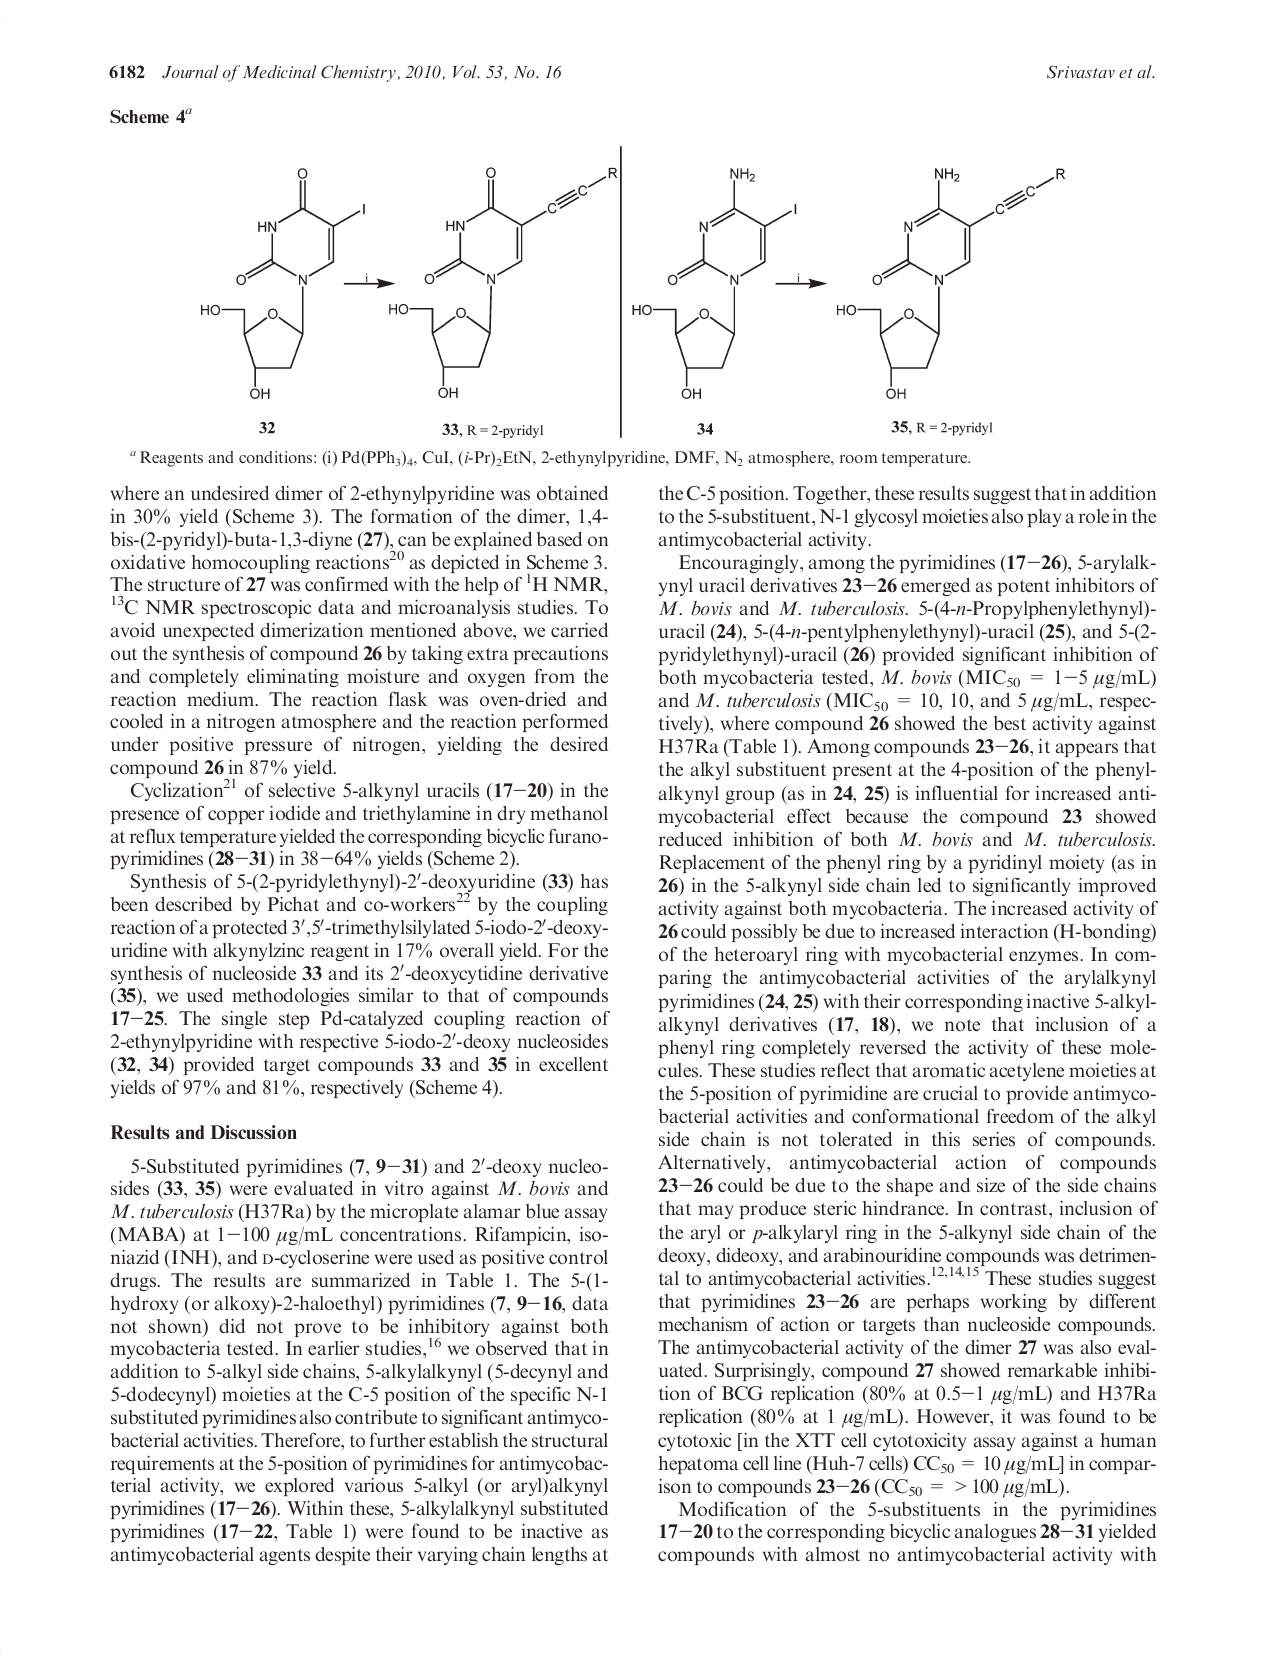exist_molecular: (834, 164, 1068, 402), (386, 162, 618, 402), (198, 166, 368, 402), (630, 168, 801, 402)
